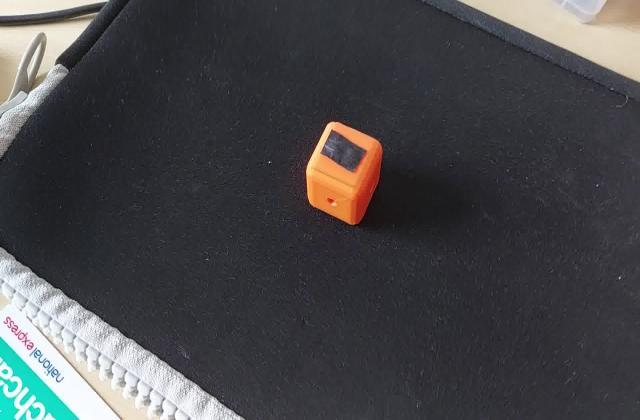black: (321, 136, 373, 174)
sticker: (304, 120, 386, 232)
